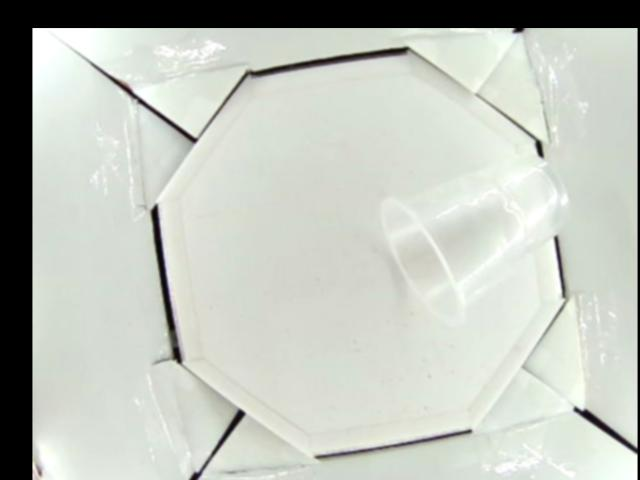Cup: (378, 151, 570, 321)
